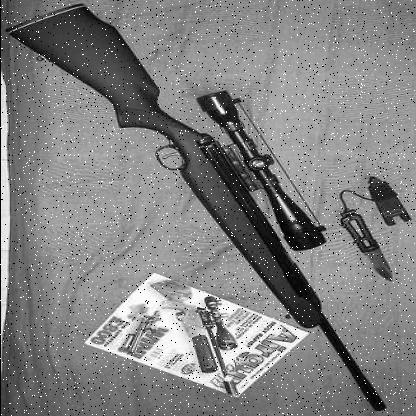rifle: (6, 6, 397, 415)
